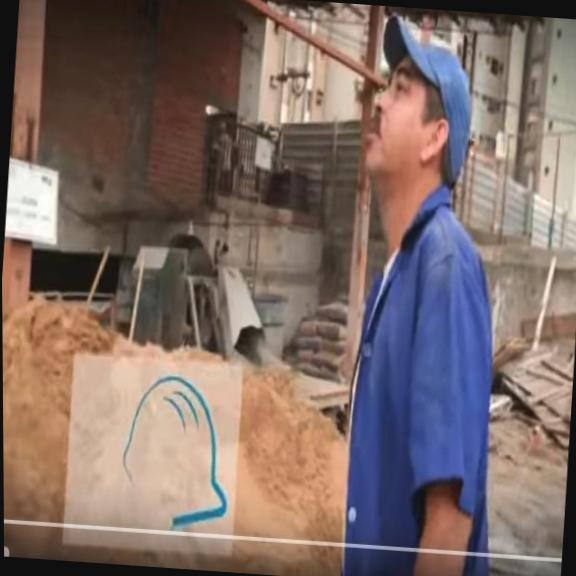no_safety_vest: (331, 185, 518, 576)
